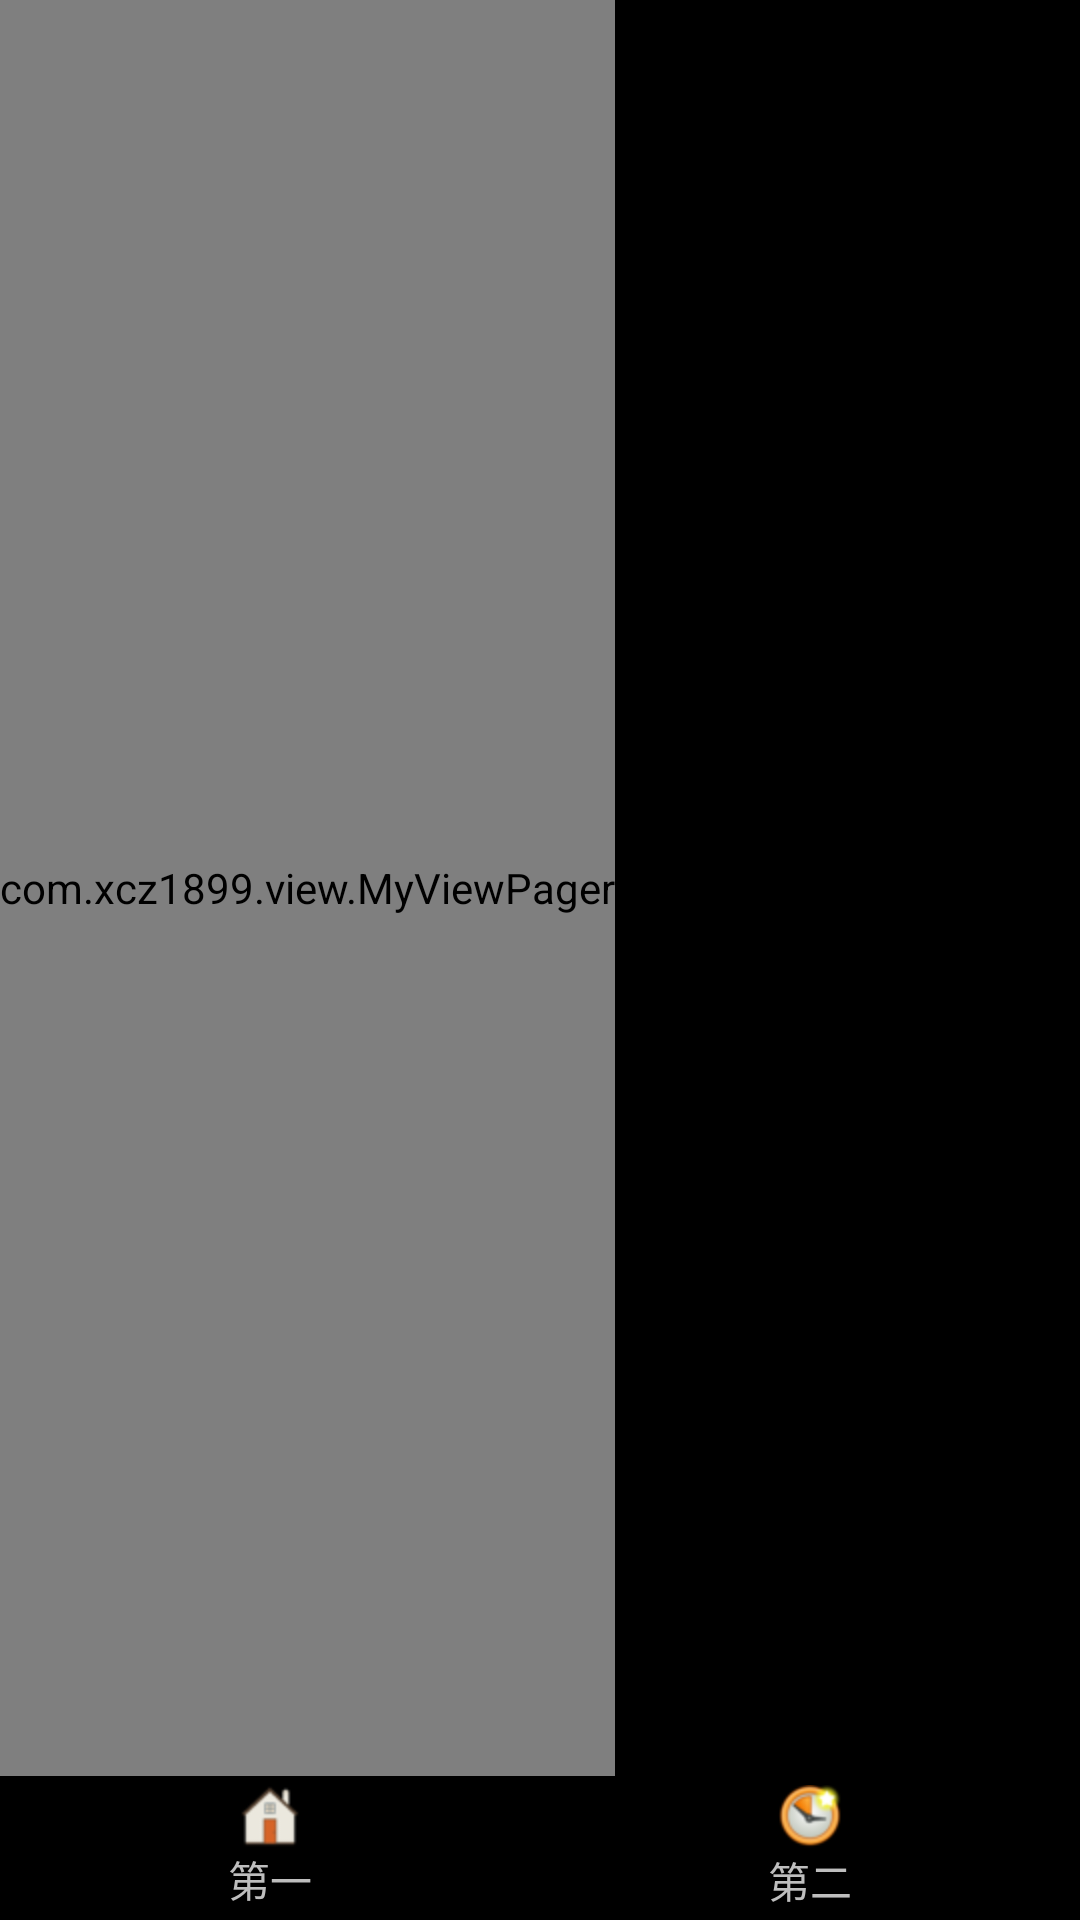

Icon click points for this 1080px×1920px phone screenshot, format point (x, y):
index: point (270, 1816)
